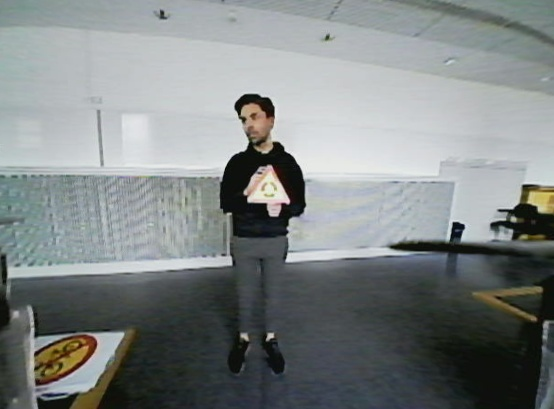roundabout_warning: (249, 158, 291, 211)
